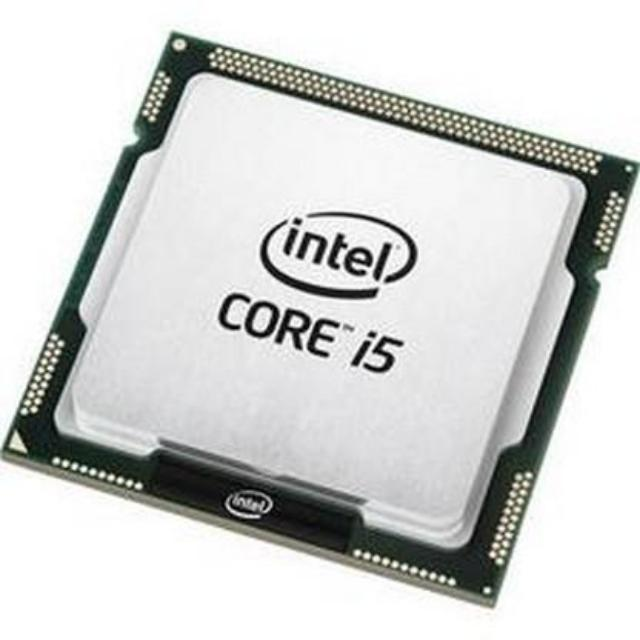CPU: (50, 39, 588, 592)
